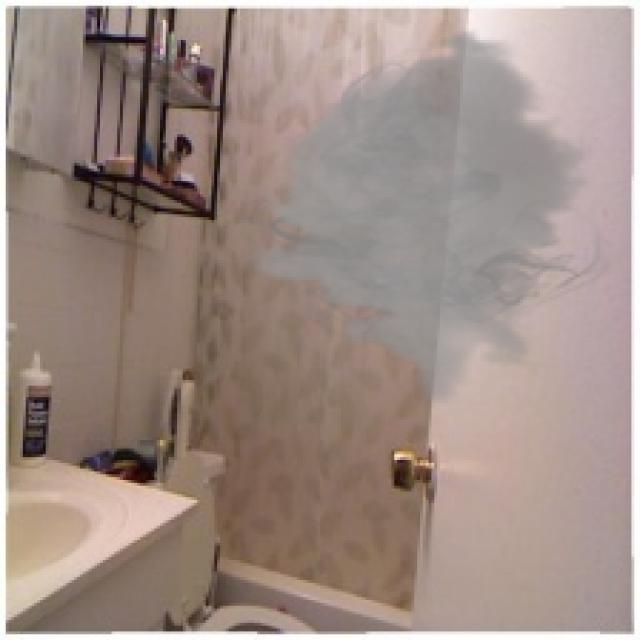Smoke: (235, 28, 620, 406)
